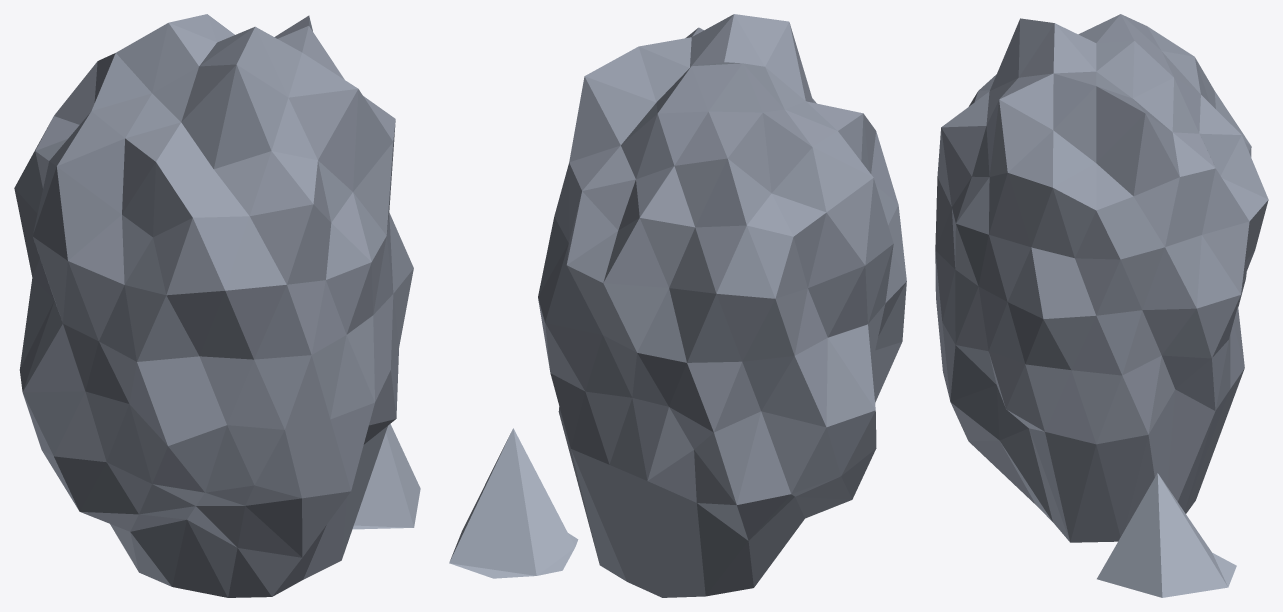
Rendered from 15-Recursos_roca_pedernal.glb.
3 views of the same model, side by side, from view 1: azimuth 30°, elevation 25°; view 2: azimuth 150°, elevation 25°; view 3: azimuth 270°, elevation 25° (orthographic). The views are drawn at different scales.
Parts seen in each view (by area): view 1: SM_Roca_M_Pedernal, SM_Roca_M_Pedernal_C; view 2: SM_Roca_M_Pedernal, SM_Roca_M_Pedernal_C; view 3: SM_Roca_M_Pedernal, SM_Roca_M_Pedernal_C.
Part boxes in pixels (box(x1,y1,x2,y2)): SM_Roca_M_Pedernal: box(14, 14, 413, 597); SM_Roca_M_Pedernal_C: box(352, 424, 420, 529); SM_Roca_M_Pedernal: box(538, 14, 906, 597); SM_Roca_M_Pedernal_C: box(449, 428, 578, 578); SM_Roca_M_Pedernal: box(935, 14, 1268, 542); SM_Roca_M_Pedernal_C: box(1097, 473, 1236, 597).
Bounding box in the file's own units: 2.83 × 3.62 × 2.28.
